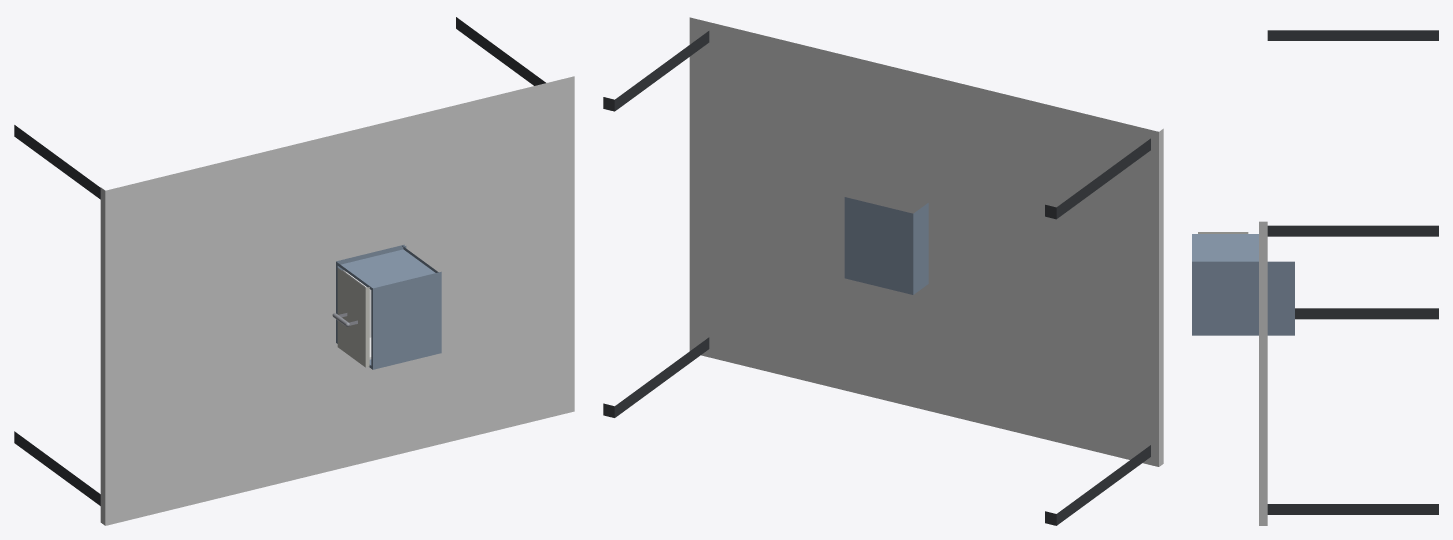
3 views of the same model, side by side, from view 1: azimuth 30°, elevation 25°; view 2: azimuth 150°, elevation 25°; view 3: azimuth 270°, elevation 25° (orthographic). The views are drawn at different scales.
Parts seen in each view (by area): view 1: s0, s1, s2; view 2: s0, s1; view 3: s0, s1.
Part boxes in pixels (x1,y1,x2,y2): s0: [14, 17, 574, 525]; s1: [336, 244, 441, 369]; s2: [332, 268, 371, 367]; s0: [603, 17, 1163, 525]; s1: [844, 197, 928, 294]; s0: [1259, 30, 1438, 525]; s1: [1192, 234, 1294, 335].
Size of the model in its own units: 2.05 by 1.4 by 1.03.
